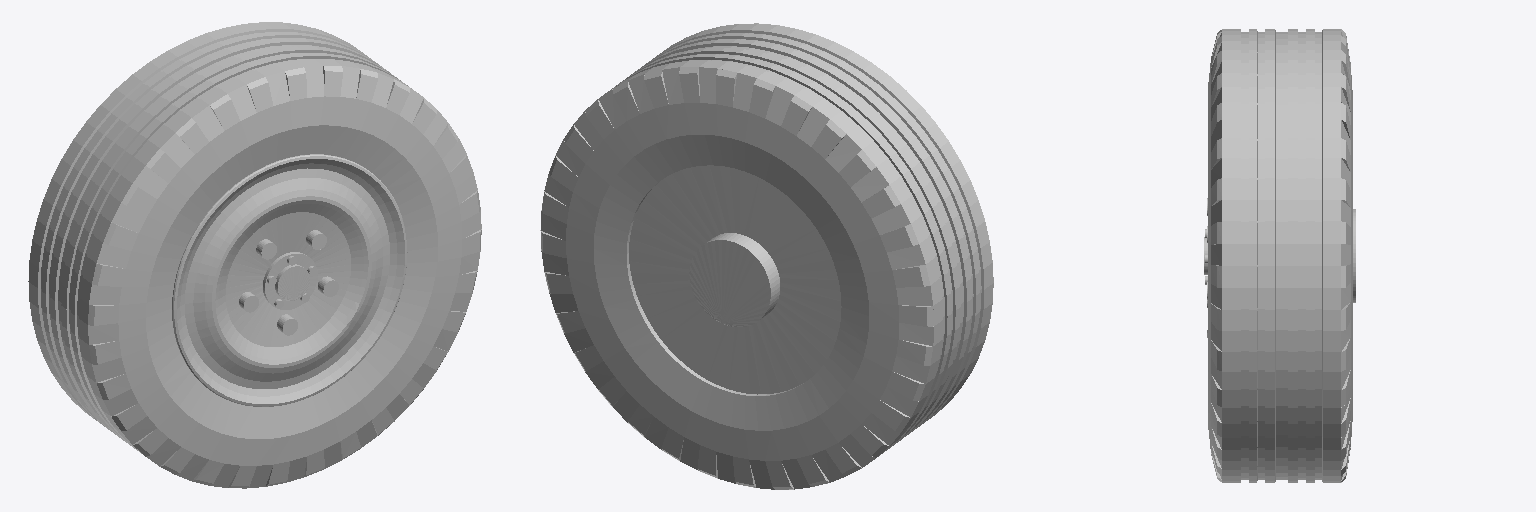
The model's file is obj_wheels_two.obj.
The picture shows the model from 3 angles: view 1: azimuth 30°, elevation 25°; view 2: azimuth 150°, elevation 25°; view 3: azimuth 270°, elevation 25°; orthographic projection.
Parts seen in each view (by area): view 1: Цилиндр_Цилиндр.002; view 2: Цилиндр_Цилиндр.002; view 3: Цилиндр_Цилиндр.002.
Part boxes in pixels (bbox=[...]): Цилиндр_Цилиндр.002: bbox=[28, 22, 481, 488]; Цилиндр_Цилиндр.002: bbox=[540, 23, 993, 489]; Цилиндр_Цилиндр.002: bbox=[1204, 29, 1355, 482].
Bounding box in the file's own units: 3 × 3 × 1.